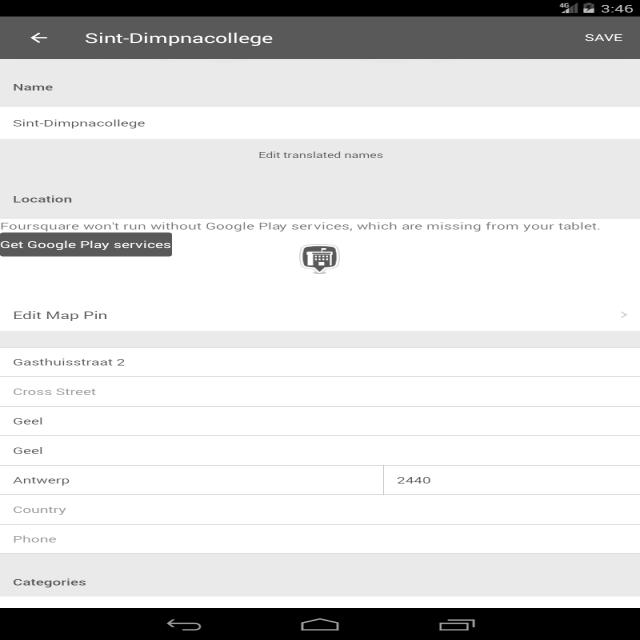Button: (2, 226, 181, 262)
ImageButton: (19, 27, 62, 49)
ImageView: (293, 242, 350, 276)
TextView: (77, 26, 280, 47), (250, 145, 395, 164), (10, 113, 158, 131), (6, 352, 135, 368), (10, 306, 119, 324), (6, 570, 102, 590), (5, 189, 86, 209), (387, 469, 451, 489), (5, 76, 66, 96), (573, 30, 630, 46), (13, 440, 52, 456)
